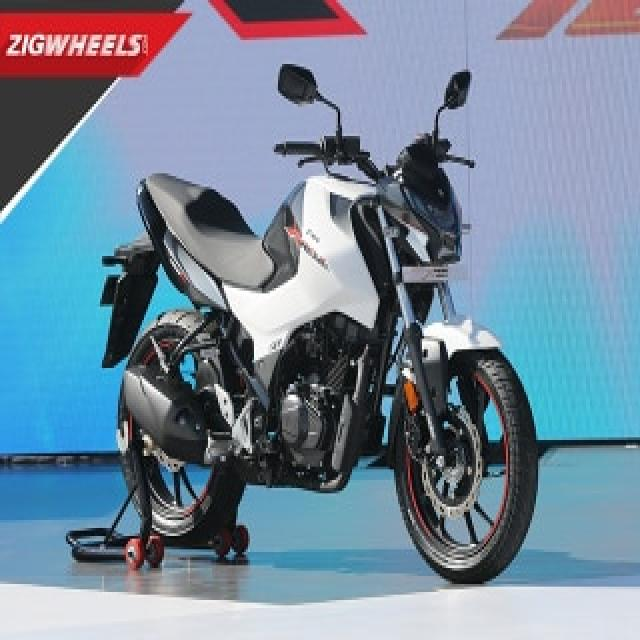Bike: (78, 47, 542, 588)
